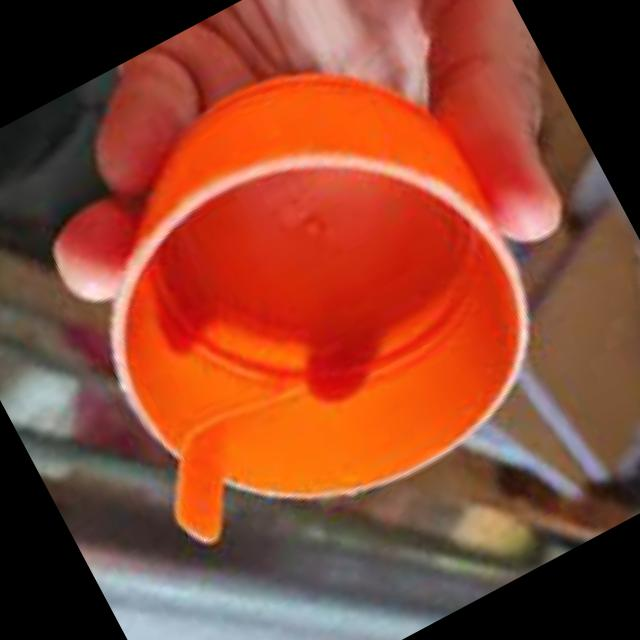TutupGalon: (9, 7, 592, 586)
